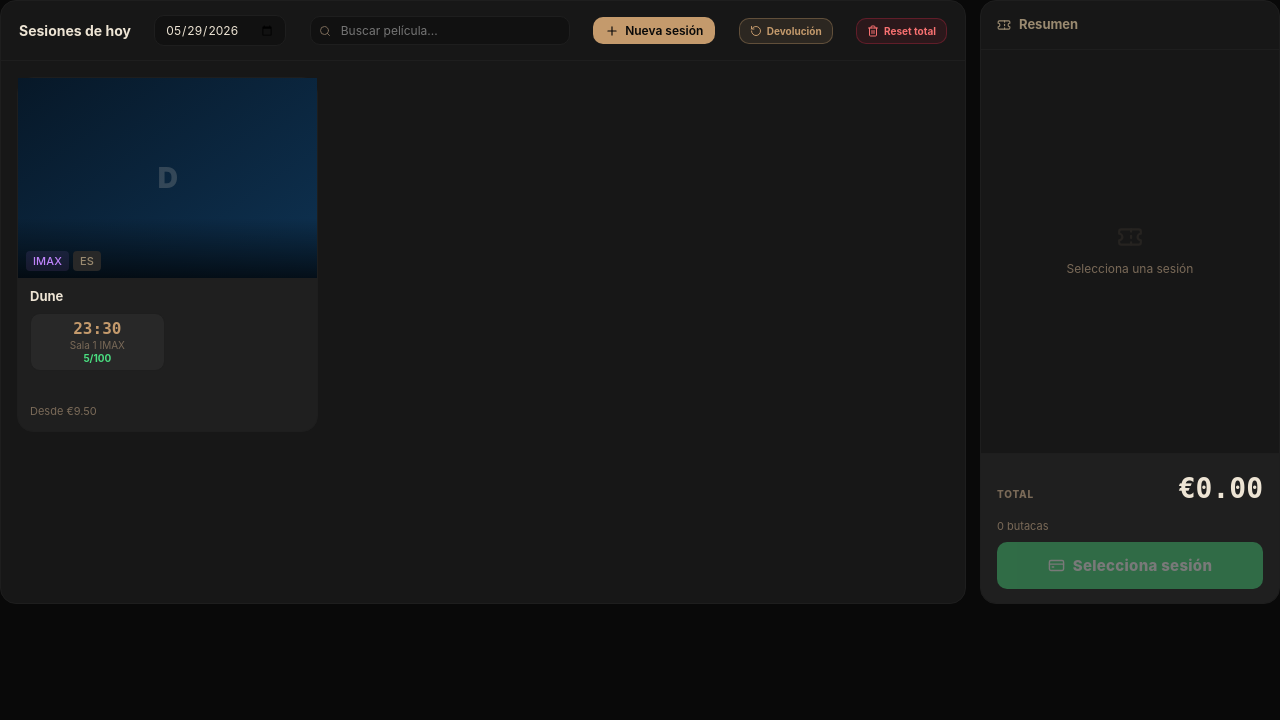
Test case: BoxOfficePage — deep flow › falls back to offline seat generation when both APIs return empty
Click the button "23:30 Sala 1 IMAX 5/100". click: (97, 342)
box: [30, 313, 165, 371]
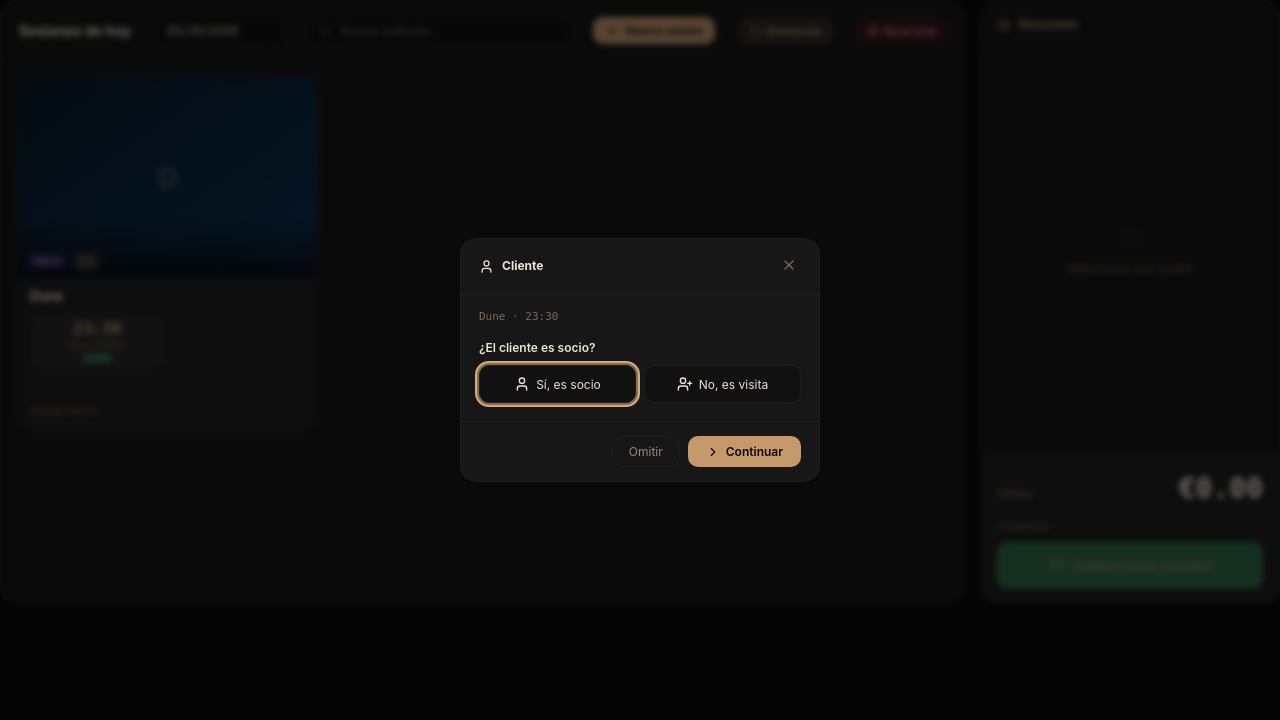
Click the button "Omitir". click: (646, 452)
box: [612, 436, 680, 467]
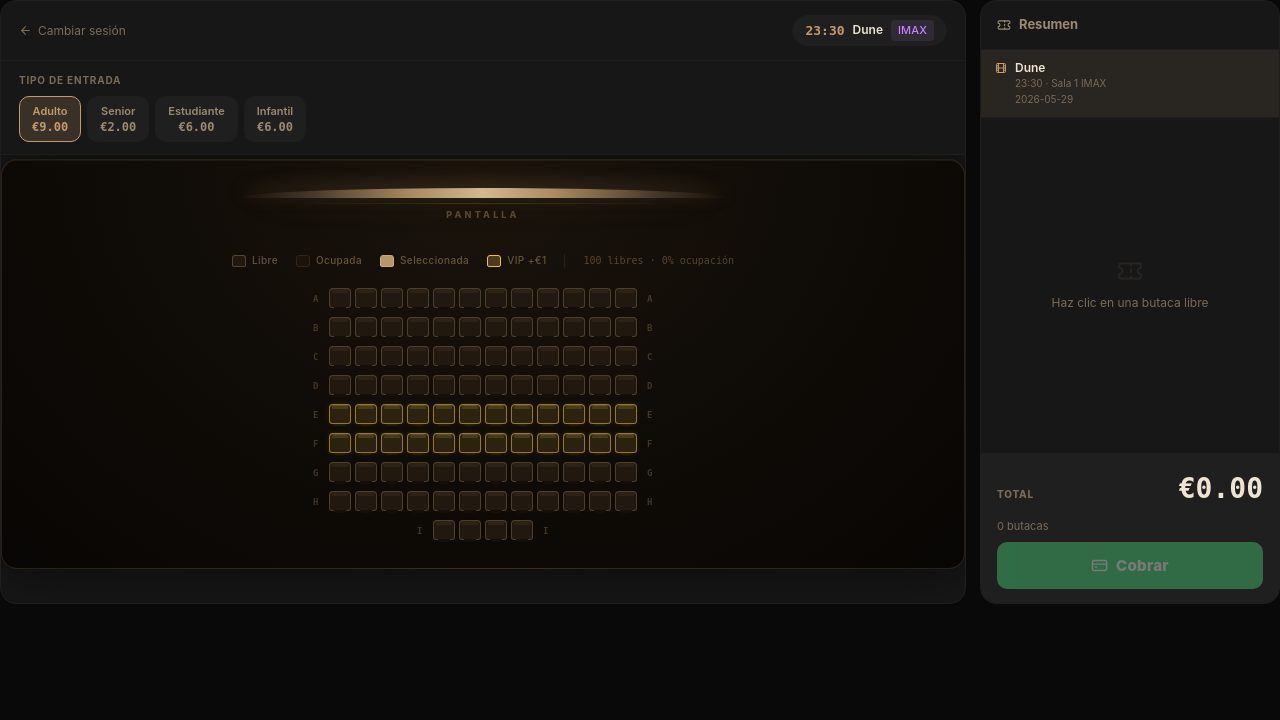
Expected: the button named "Butaca A06 libre" is shown, [459, 288, 481, 308]
Expected: the button named "Butaca A01 libre" is shown, [329, 288, 351, 308]
